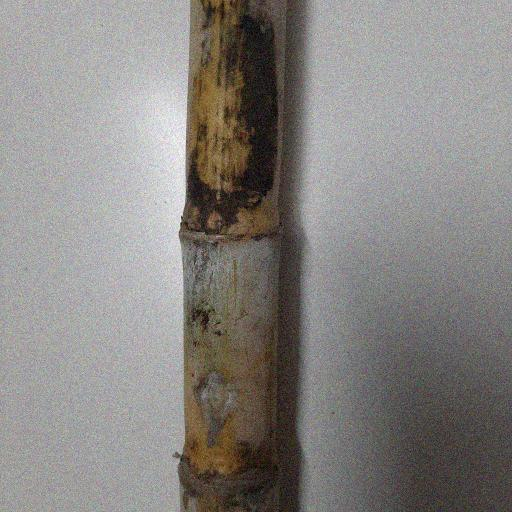Bud: (201, 205, 230, 236)
